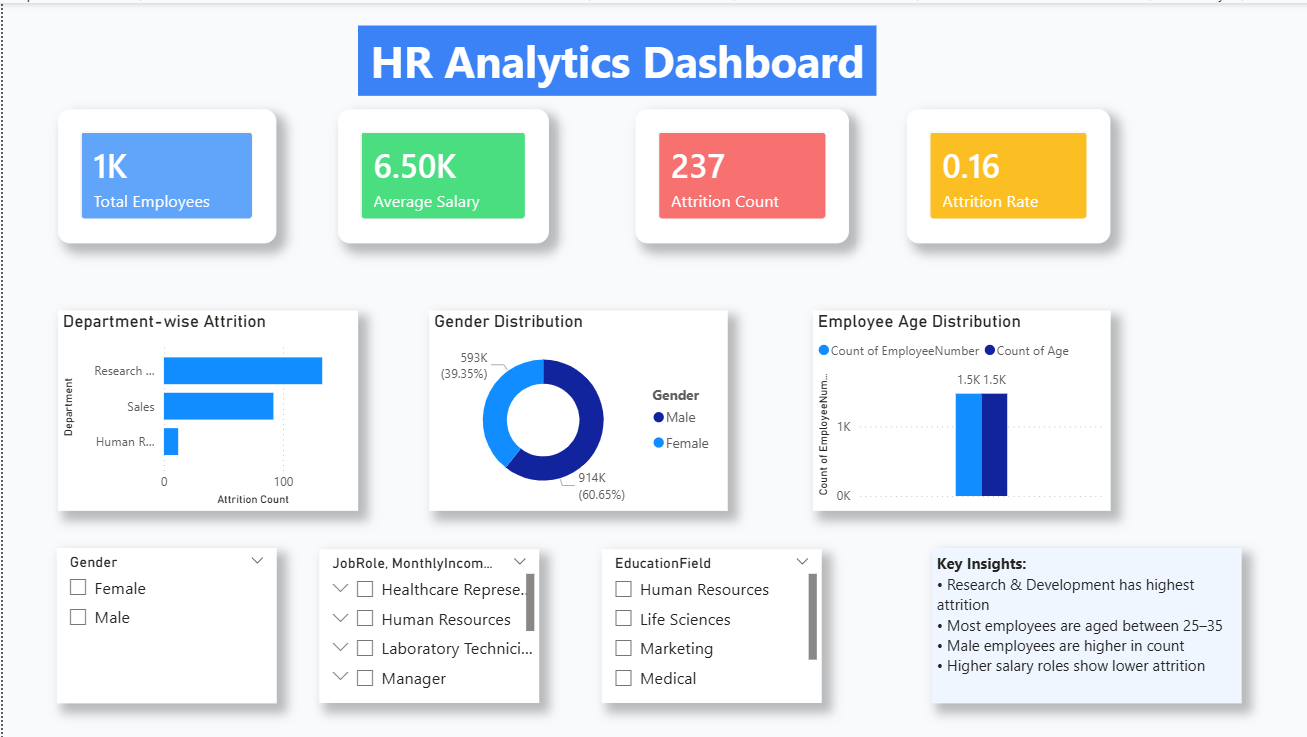

This screenshot's page, from the dashboard's own definition file:
{"tool":"powerbi","page":{"name":"Page 1","canvas":[1280,720],"ordinal":0},"visuals":[{"type":"cardVisual","fields":{"Data":["WA_Fn-UseC_-HR-Employee-Attrition.Total Employees"]},"box":[53.8,103.9,214,130.8],"z":0},{"type":"cardVisual","fields":{"Data":["WA_Fn-UseC_-HR-Employee-Attrition.Average Salary"]},"box":[327.7,103.9,206.7,130.8],"z":1},{"type":"cardVisual","fields":{"Data":["WA_Fn-UseC_-HR-Employee-Attrition.Attrition Count"]},"box":[618.8,103.9,209.1,130.8],"z":2},{"type":"cardVisual","fields":{"Data":["WA_Fn-UseC_-HR-Employee-Attrition.Attrition Rate"]},"box":[884.1,103.9,199.3,130.8],"z":3},{"type":"barChart","title":"Department-wise Attrition","fields":{"Category":["WA_Fn-UseC_-HR-Employee-Attrition.Department"],"Y":["WA_Fn-UseC_-HR-Employee-Attrition.Attrition Count"]},"box":[53.8,300.8,293.5,195.7],"z":6},{"type":"donutChart","title":" Gender Distribution","fields":{"Category":["WA_Fn-UseC_-HR-Employee-Attrition.Gender"],"Y":["Sum(WA_Fn-UseC_-HR-Employee-Attrition.EmployeeNumber)"]},"box":[417,300.8,292.3,195.7],"z":7},{"type":"clusteredColumnChart","title":"Employee Age Distribution","fields":{"Y":["CountNonNull(WA_Fn-UseC_-HR-Employee-Attrition.EmployeeNumber)","CountNonNull(WA_Fn-UseC_-HR-Employee-Attrition.Age)"]},"box":[792.4,300.8,291,195.7],"z":8},{"type":"slicer","fields":{"Values":["WA_Fn-UseC_-HR-Employee-Attrition.JobRole","WA_Fn-UseC_-HR-Employee-Attrition.MonthlyIncome","WA_Fn-UseC_-HR-Employee-Attrition.Department"]},"box":[309.4,534.4,215.2,150.4],"z":9},{"type":"slicer","fields":{"Values":["WA_Fn-UseC_-HR-Employee-Attrition.Gender"]},"box":[52.6,533.2,215.2,151.6],"z":10},{"type":"slicer","fields":{"Values":["WA_Fn-UseC_-HR-Employee-Attrition.EducationField"]},"box":[585.7,534.4,215.2,150.4],"z":11},{"type":"textbox","box":[908.6,533.2,303.3,151.6],"z":12},{"type":"textbox","box":[347.3,22,507.5,68.5],"z":13}]}

Visuals, with their boxes in screenshot pixels (x1, y1, x2, y2), scaled from the page's 1280x720 canvas onto the 1307x737 screenshot:
cardVisual - WA_Fn-UseC_-HR-Employee-Attrition.Total Employees: crop(55, 106, 273, 240)
cardVisual - WA_Fn-UseC_-HR-Employee-Attrition.Average Salary: crop(335, 106, 546, 240)
cardVisual - WA_Fn-UseC_-HR-Employee-Attrition.Attrition Count: crop(632, 106, 845, 240)
cardVisual - WA_Fn-UseC_-HR-Employee-Attrition.Attrition Rate: crop(903, 106, 1106, 240)
"Department-wise Attrition" barChart: crop(55, 308, 355, 508)
" Gender Distribution" donutChart: crop(426, 308, 724, 508)
"Employee Age Distribution" clusteredColumnChart: crop(809, 308, 1106, 508)
slicer - WA_Fn-UseC_-HR-Employee-Attrition.JobRole x WA_Fn-UseC_-HR-Employee-Attrition.MonthlyIncome: crop(316, 547, 536, 701)
slicer - WA_Fn-UseC_-HR-Employee-Attrition.Gender: crop(54, 546, 273, 701)
slicer - WA_Fn-UseC_-HR-Employee-Attrition.EducationField: crop(598, 547, 818, 701)
textbox: crop(928, 546, 1237, 701)
textbox: crop(355, 23, 873, 93)
